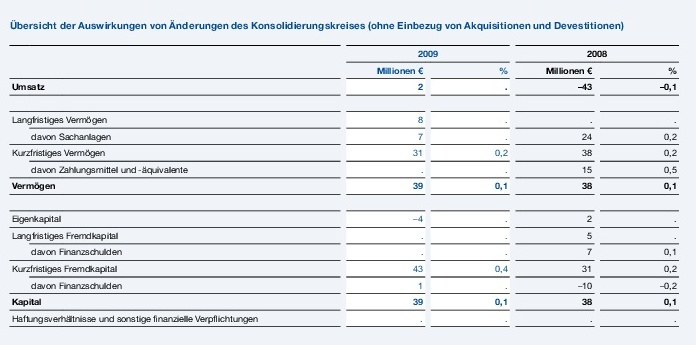table: (0, 0, 696, 345)
